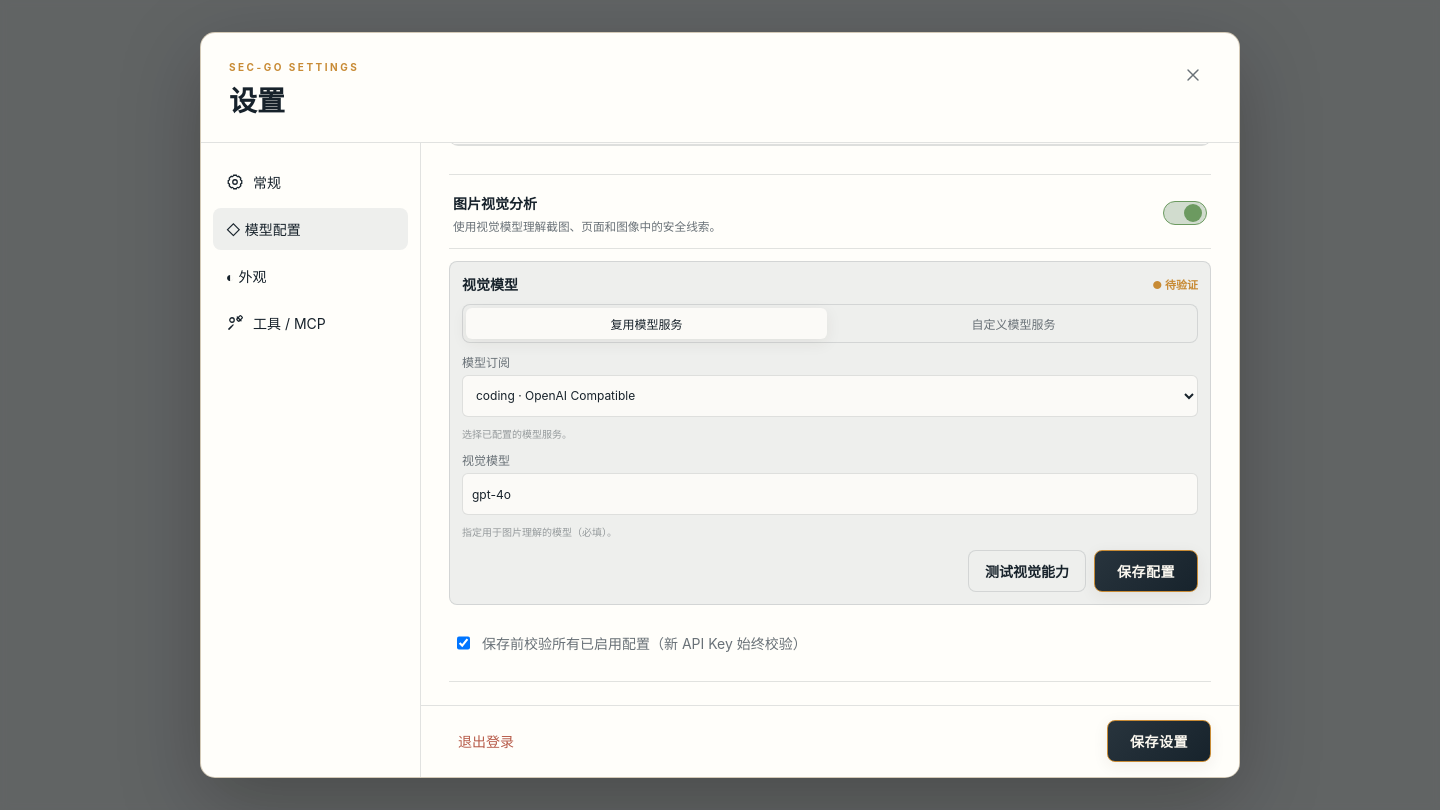
Test: SettingsPanel vision settings › runs a capability test and refreshes status
The image size is (1440, 810).
(page scrolled)
Click the button "测试视觉能力" at x=1027, y=571, box [968,550,1086,592]
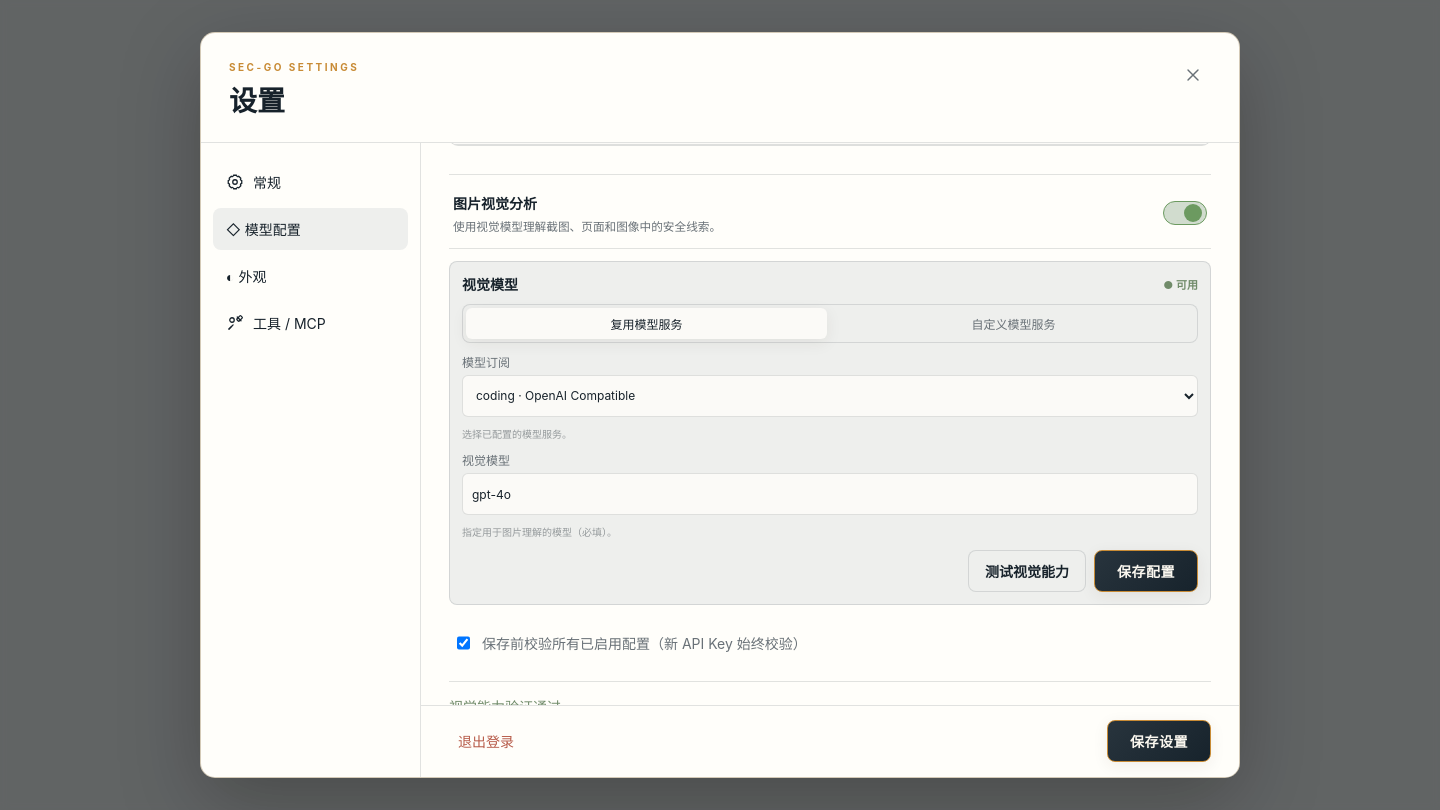
Expected: the text "● 可用" is shown, [1163,276,1198,292]
